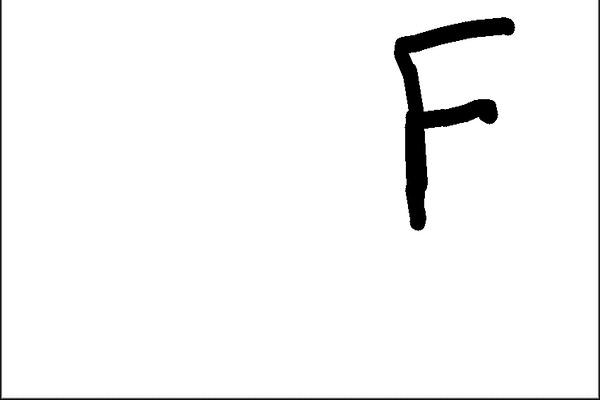F: (390, 13, 519, 234)
